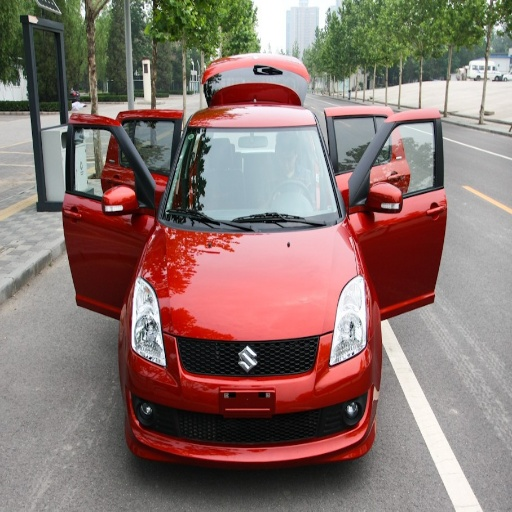front_bumper: (128, 332, 372, 464)
front_left_light: (330, 277, 372, 365)
front_right_door: (95, 135, 135, 275)
front_right_light: (131, 290, 169, 367)
hood: (153, 222, 357, 340)
